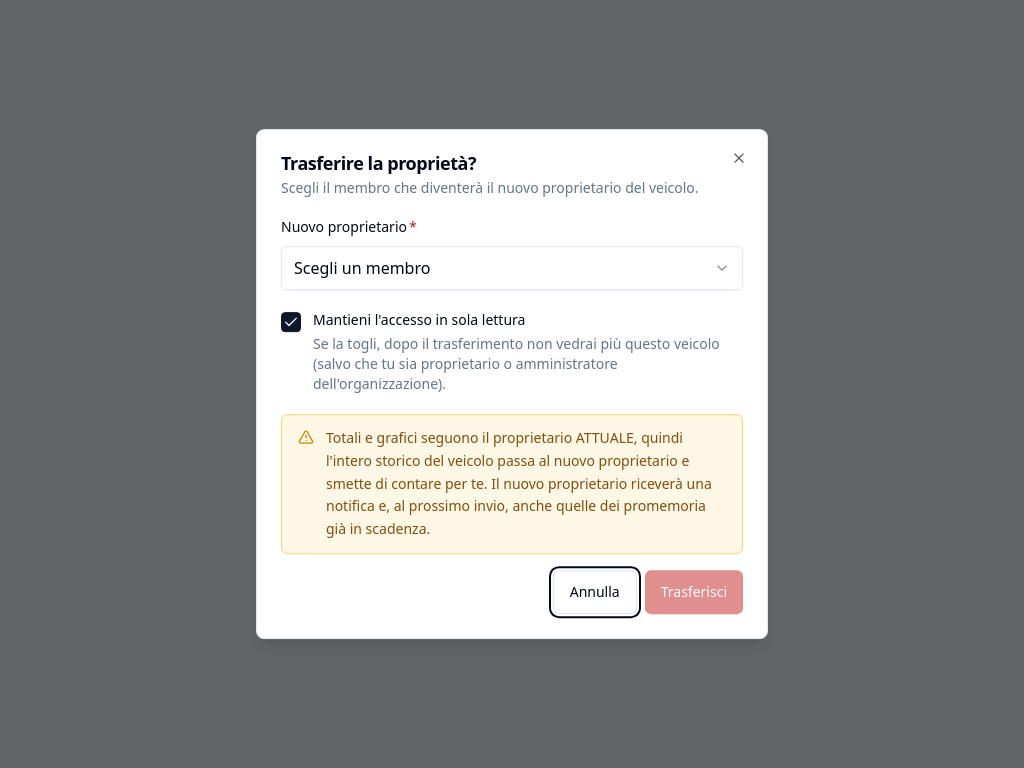
Test: TransferVehicleDialog › invia {userId, keepAccess: true} di default, mostra il toast, chiude e invalida veicoli, dashboard e promemoria
The width and height of the screenshot is (1024, 768).
What coordinates should you click on to do the following:
click the dropdown named "Nuovo proprietario"
I would click on:
 (362, 268)
Its box is x1=281 y1=246 x2=743 y2=290.
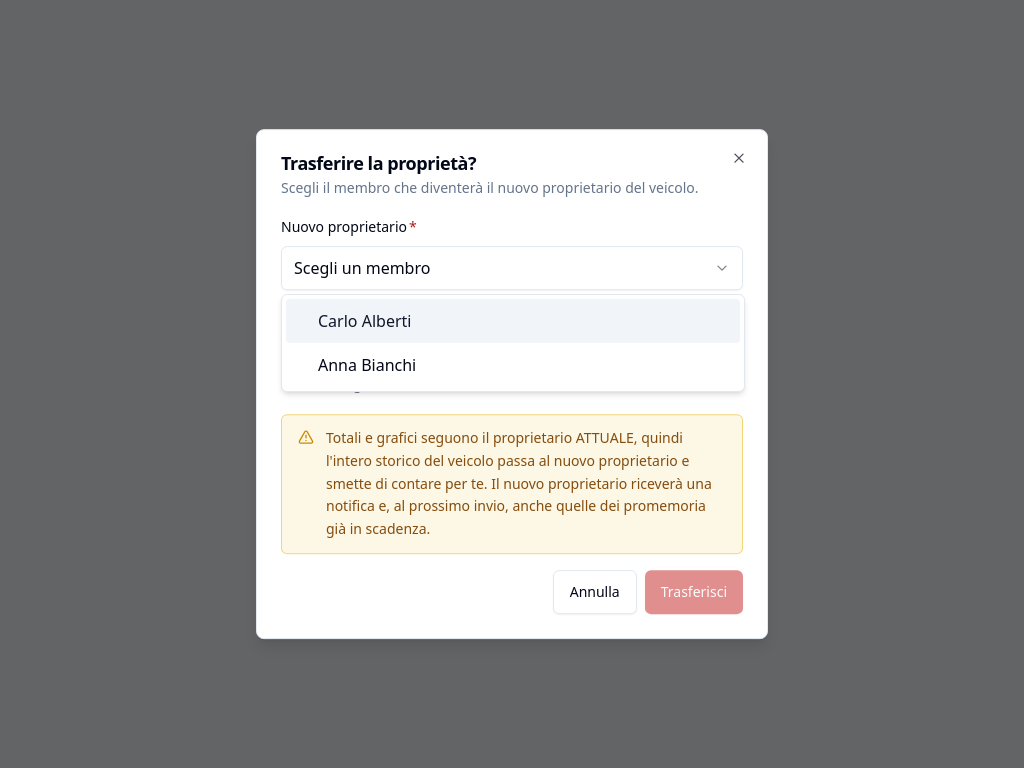
What coordinates should you click on to do the following:
click the option "Carlo Alberti"
I would click on:
 (338, 321)
Its box is x1=286 y1=299 x2=740 y2=343.
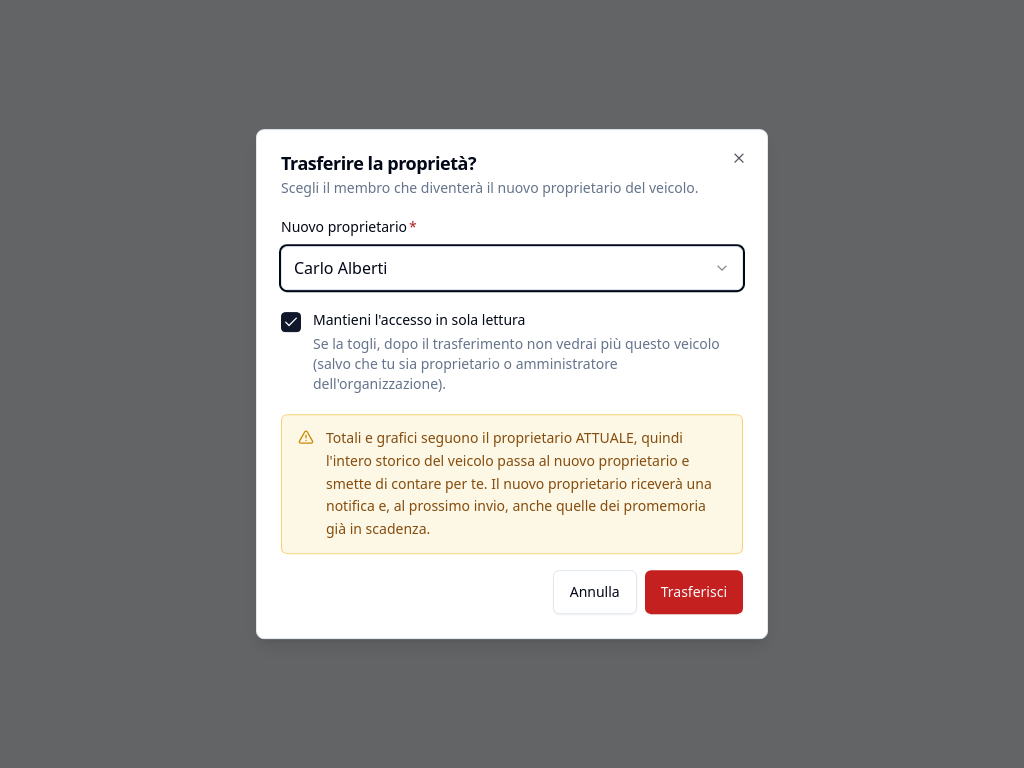
What coordinates should you click on to do the following:
click the button "Trasferisci"
I would click on:
 (694, 592)
Its box is x1=645 y1=570 x2=743 y2=614.
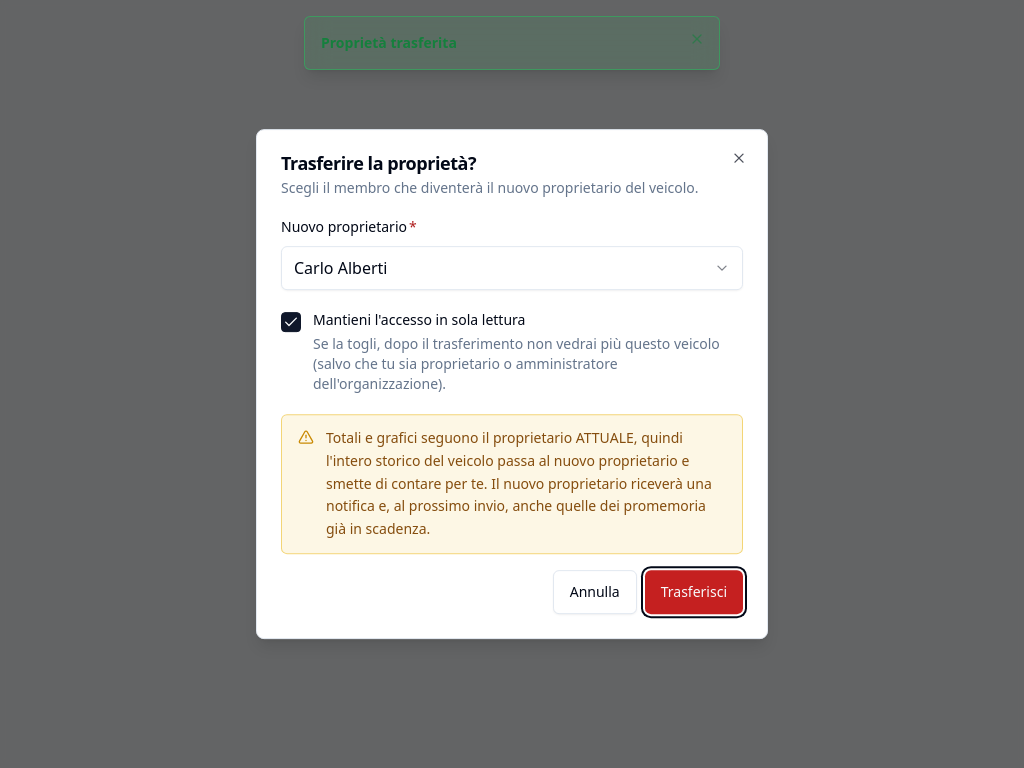
Expected: the text "Proprietà trasferita" is shown, x1=321 y1=33 x2=457 y2=53
